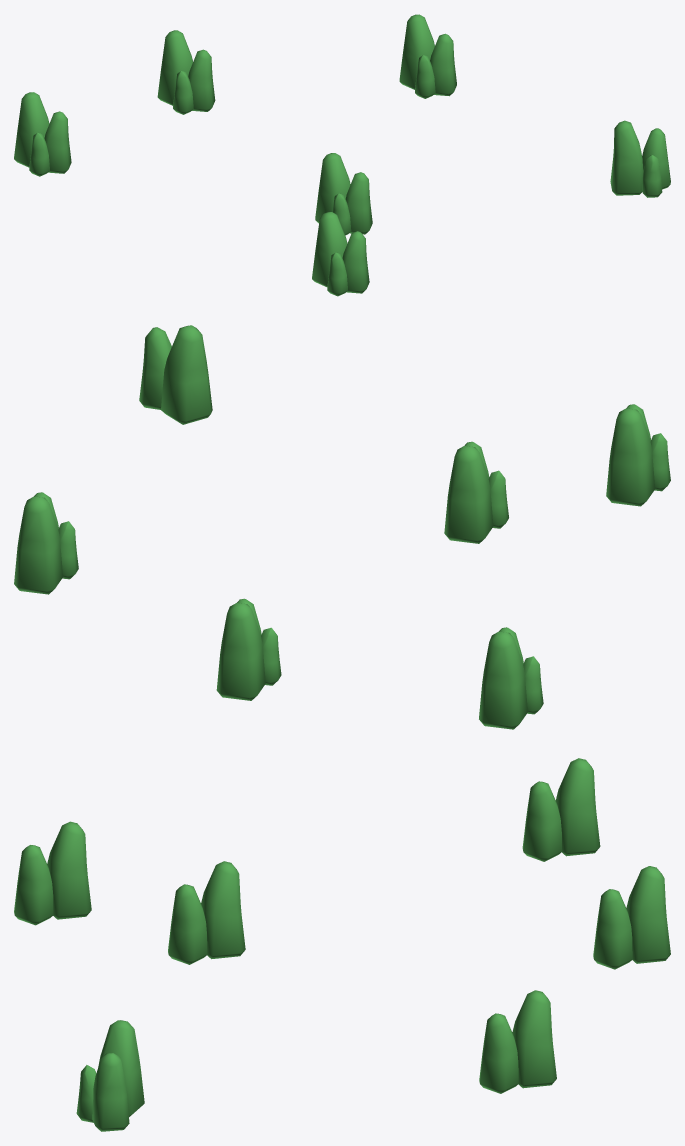
Rendered from grass.collection.001.glb.
The picture shows the model from 3 angles, top to bottom: view 1: azimuth 30°, elevation 25°; view 2: azimuth 150°, elevation 25°; view 3: azimuth 270°, elevation 25°; orthographic projection. The views are drawn at different scales.
Visible parts, largest first — view 1: grass.collection.001; view 2: grass.collection.001; view 3: grass.collection.001.
Boxes of the visible parts, <box> form: grass.collection.001: <box>14,14,670,296</box>; grass.collection.001: <box>14,325,670,729</box>; grass.collection.001: <box>14,758,670,1131</box>.
Size of the model in its own units: 3.93 by 0.549 by 3.69.
